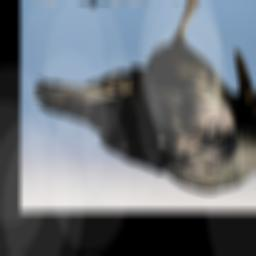Crow: (31, 0, 256, 195)
